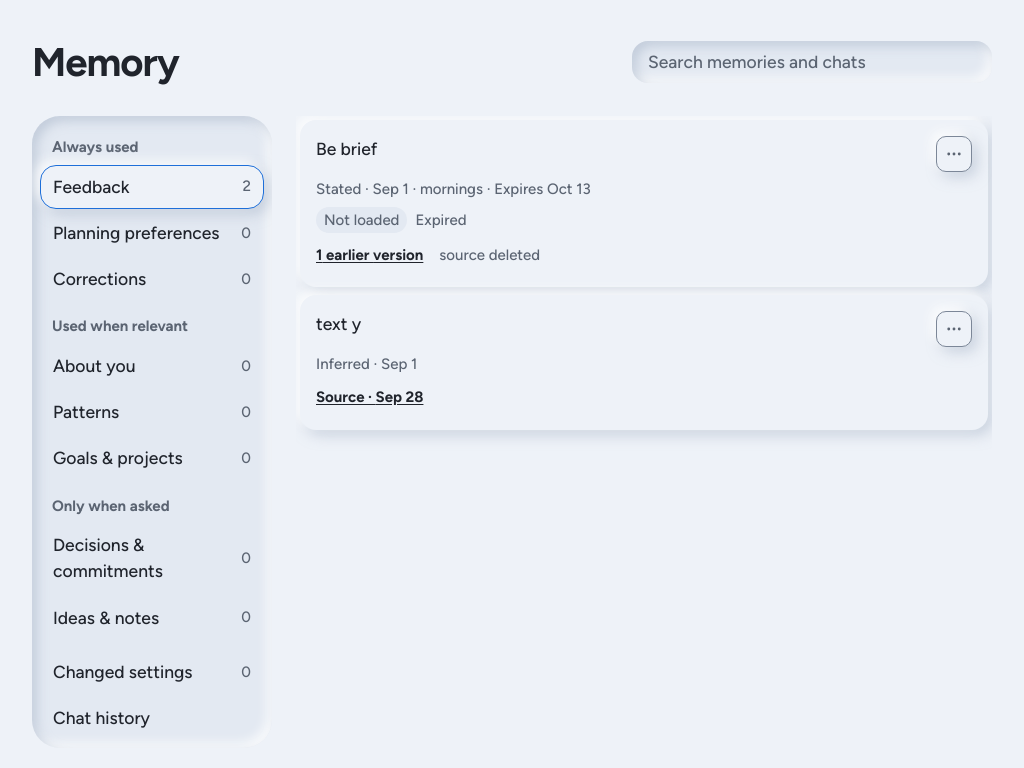
Test case: MemoryPage › item rows show text, Stated/Inferred, scope, expiry, Not loaded, earlier versions and the source
Expected: the button "Be brief" is shown, [316,136,892,162]
Expected: the list item with test id "memory-item" shows "Stated", [316,180,591,198]
Step 1. Click the button "1 earlier version" → (370, 255), box [316,239,423,271]
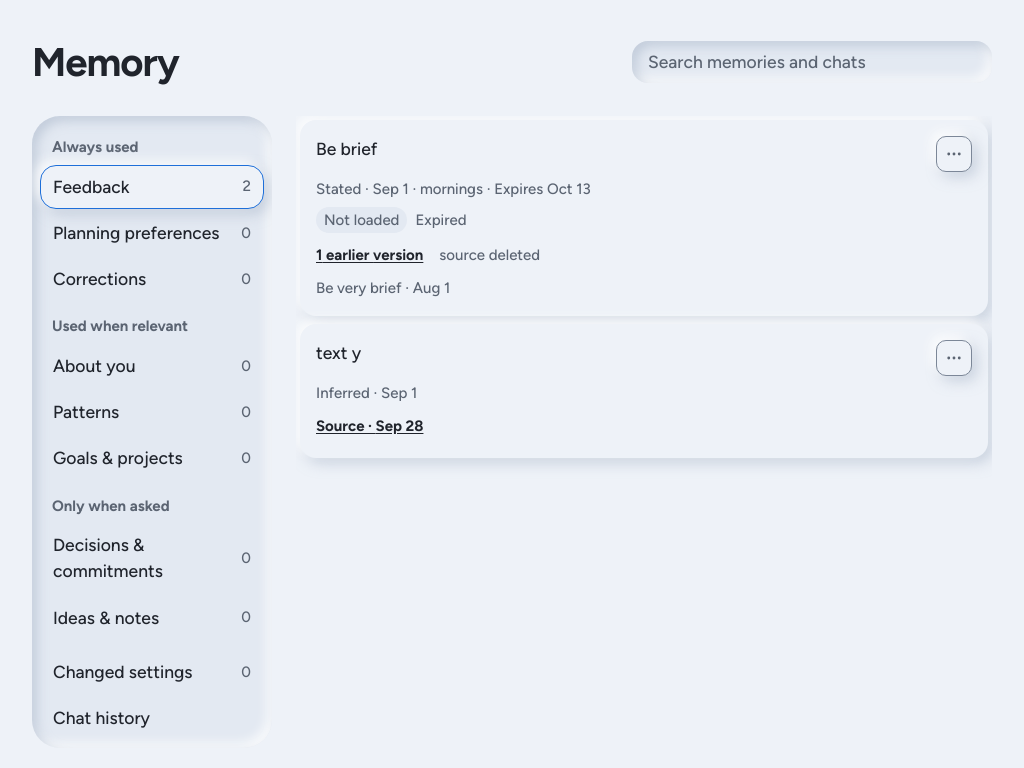
Expected: the list item "Be very brief · Aug 1" is shown, [316,279,450,297]
